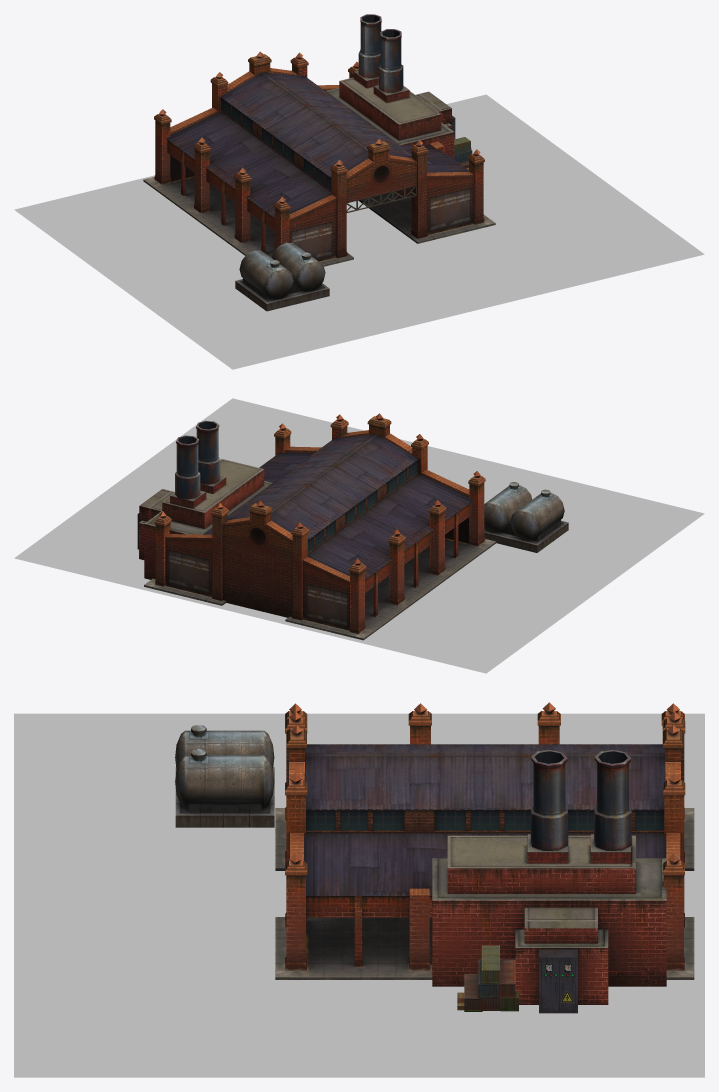
Rendered from Dhz_arsenal_01.FBX.
3 views of the same model, one above another, from view 1: azimuth 30°, elevation 25°; view 2: azimuth 150°, elevation 25°; view 3: azimuth 270°, elevation 25° (orthographic). The views are drawn at different scales.
Parts seen in each view (by area): view 1: Dhz_arsenal_01; view 2: Dhz_arsenal_01; view 3: Dhz_arsenal_01.
Boxes of the visible parts, x1,y1,x2,y2 form: Dhz_arsenal_01: [14, 14, 704, 369]; Dhz_arsenal_01: [14, 398, 704, 673]; Dhz_arsenal_01: [14, 702, 704, 1077].
Bounding box in the file's own units: 154 × 41.67 × 124.
